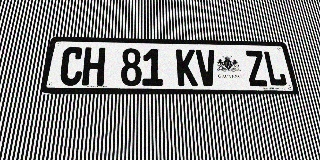1: (142, 48, 163, 86)
8: (120, 48, 142, 86)
C: (58, 47, 84, 86)
H: (81, 47, 106, 86)
K: (176, 49, 198, 86)
L: (262, 51, 288, 86)
V: (195, 50, 218, 86)
Z: (244, 50, 269, 86)
